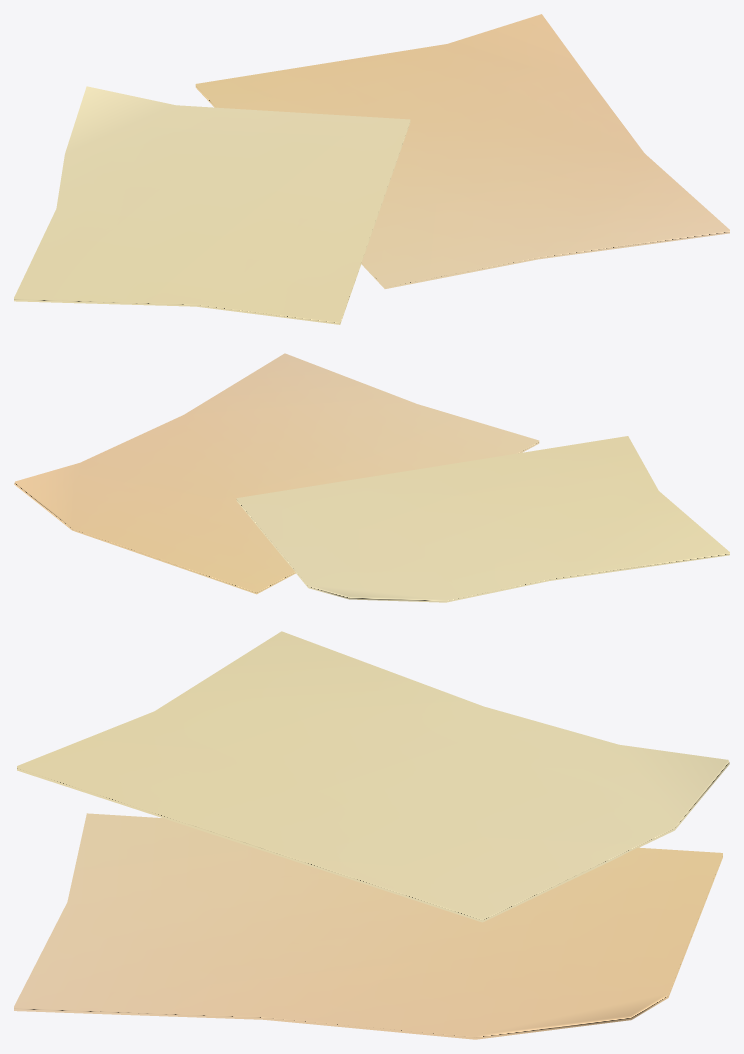
File: Paper_001.fbx
3 renders of one model, top to bottom at view 1: azimuth 30°, elevation 25°; view 2: azimuth 150°, elevation 25°; view 3: azimuth 270°, elevation 25°, orthographic. The views are drawn at different scales.
Parts seen in each view (by area): view 1: Paper_001; view 2: Paper_001; view 3: Paper_001.
Boxes of the visible parts, box(x1,y1,x2,y2) form: Paper_001: box(14, 14, 729, 324); Paper_001: box(14, 353, 729, 602); Paper_001: box(14, 631, 729, 1039).
Size of the model in its own units: 0.3768 by 0.0139 by 0.2792.
